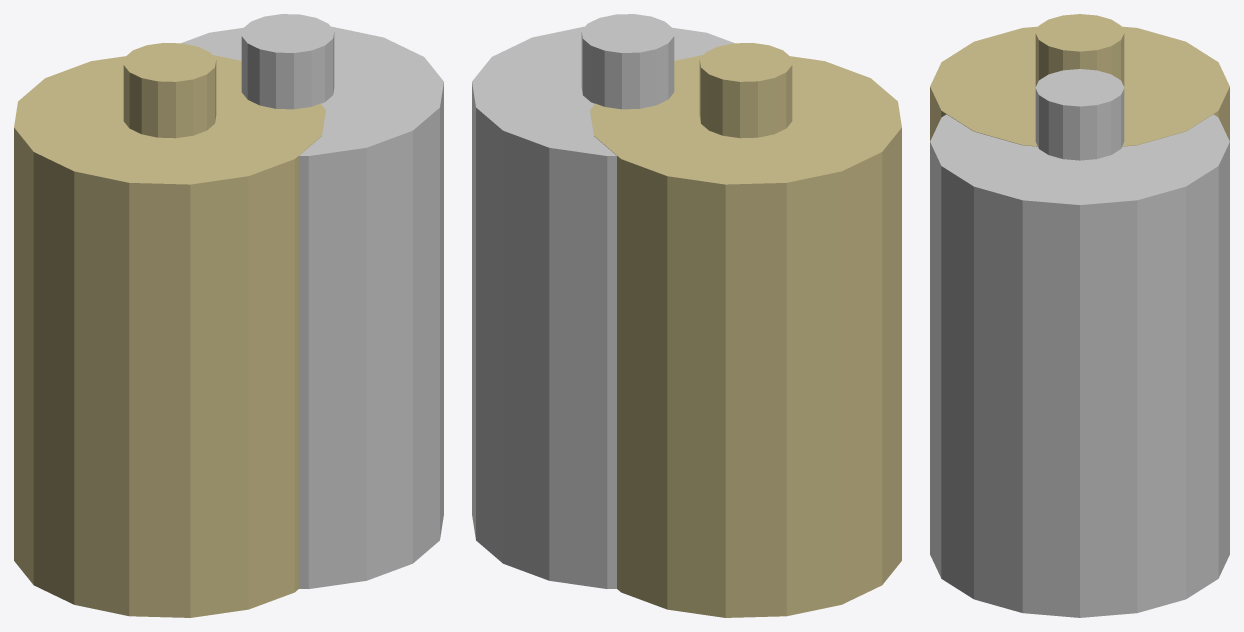
Rendered from power_cell.fbx.
The picture shows the model from 3 angles, left to right: view 1: azimuth 30°, elevation 25°; view 2: azimuth 150°, elevation 25°; view 3: azimuth 270°, elevation 25°; orthographic projection. The views are drawn at different scales.
Visible parts, largest first — view 1: Cylinder; view 2: Cylinder; view 3: Cylinder.
Part boxes in pixels (x1,y1,x2,y2): Cylinder: (14, 14, 443, 617); Cylinder: (472, 14, 901, 617); Cylinder: (930, 14, 1229, 617).
Bounding box in the file's own units: 165 × 198 × 115.
